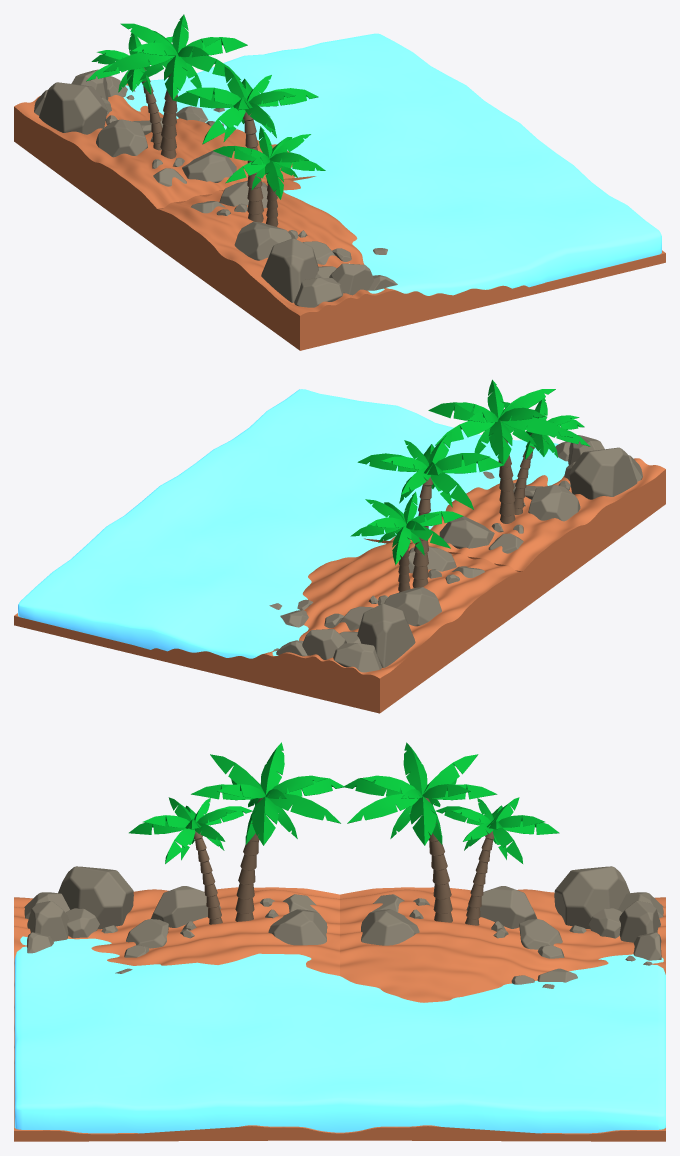
Rendered from Beach Default.fbx.
3 views of the same model, one above another, from view 1: azimuth 30°, elevation 25°; view 2: azimuth 150°, elevation 25°; view 3: azimuth 270°, elevation 25° (orthographic). The views are drawn at different scales.
Parts seen in each view (by area): view 1: Plane.001, Sand, Sand.001, Rock.039, Rock.002, Rock.036, Rock.005, Rock.031, Rock, Tree, Rock.001, Tree.005 (+12 smaller); view 2: Plane.001, Sand.001, Sand, Rock.002, Rock.039, Rock.005, Rock.036, Rock.010, Rock.041, Tree.005, Rock.040, Tree (+11 smaller); view 3: Plane.001, Sand.001, Sand, Rock.002, Rock.039, Rock.036, Rock.005, Rock.010, Rock.031, Tree.005, Tree, Rock.040 (+16 smaller).
Part boxes in pixels (x1,y1,x2,y2): Plane.001: [123, 33, 661, 295]; Sand: [157, 179, 665, 350]; Sand.001: [14, 83, 315, 246]; Rock.039: [39, 82, 107, 134]; Rock.002: [261, 238, 318, 302]; Rock.036: [96, 119, 147, 157]; Rock.005: [234, 221, 291, 260]; Rock.031: [182, 151, 236, 182]; Rock: [294, 277, 343, 307]; Tree: [243, 111, 263, 222]; Rock.001: [329, 263, 373, 295]; Tree.005: [160, 73, 177, 158]; Plane.001: [18, 389, 568, 658]; Sand.001: [14, 542, 522, 713]; Sand: [364, 458, 665, 609]; Rock.002: [569, 447, 637, 499]; Rock.039: [357, 603, 415, 667]; Rock.005: [528, 485, 580, 521]; Rock.036: [384, 587, 441, 626]; Rock.010: [439, 516, 494, 548]; Rock.041: [333, 643, 381, 672]; Tree.005: [412, 477, 433, 587]; Rock.040: [302, 629, 346, 659]; Tree: [498, 421, 515, 523]; Plane.001: [14, 936, 665, 1133]; Sand.001: [340, 887, 665, 1141]; Sand: [14, 887, 339, 1141]; Rock.002: [58, 866, 133, 929]; Rock.039: [554, 866, 629, 928]; Rock.036: [466, 886, 537, 928]; Rock.005: [151, 886, 220, 927]; Rock.010: [268, 909, 327, 945]; Rock.031: [361, 909, 419, 945]; Tree.005: [425, 797, 452, 922]; Tree: [235, 798, 262, 921]; Rock.040: [619, 901, 660, 942].
Size of what is drawn, in the model's own units: 1189 by 549 by 1600.
